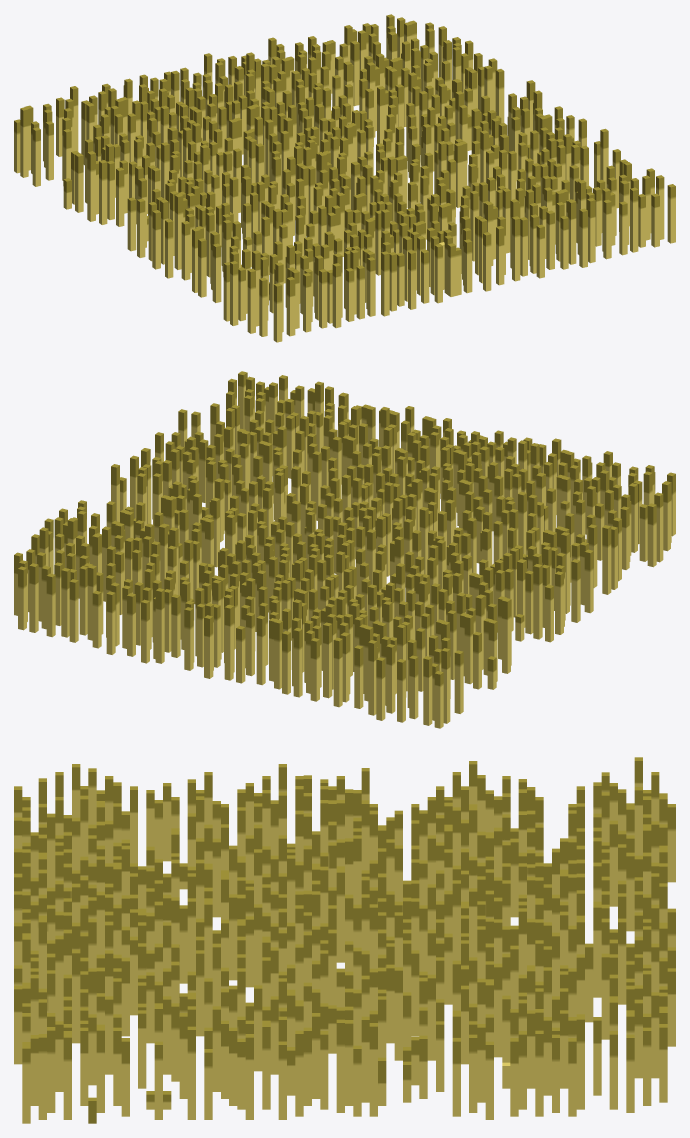
File: wheat_overtile.glb
The picture shows the model from 3 angles, top to bottom: view 1: azimuth 30°, elevation 25°; view 2: azimuth 150°, elevation 25°; view 3: azimuth 270°, elevation 25°; orthographic projection. The views are drawn at different scales.
Visible parts, largest first — view 1: wheat_overtile; view 2: wheat_overtile; view 3: wheat_overtile.
Boxes of the visible parts, box(x1,y1,x2,y2) form: wheat_overtile: box(14, 14, 675, 342); wheat_overtile: box(14, 371, 675, 728); wheat_overtile: box(14, 757, 675, 1123).
Size of the model in its own units: 7.9 by 1.3 by 8.
Materials: 1 (1 with a texture image).
